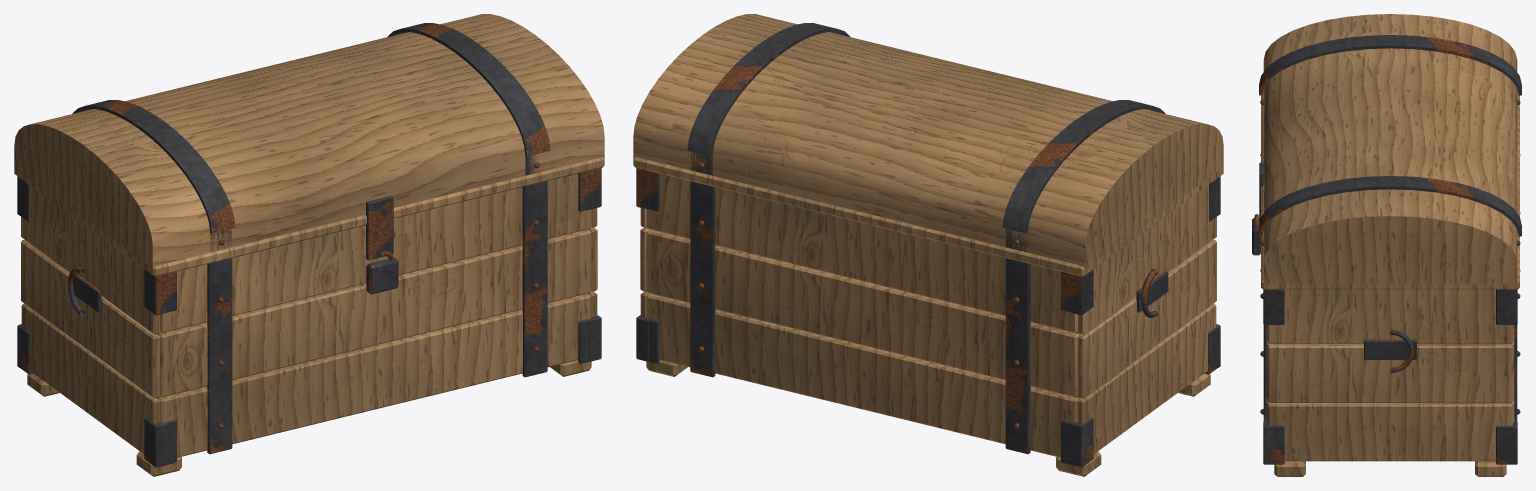
Rendered from bed_toy_chest.obj.
The picture shows the model from 3 angles, left to right: view 1: azimuth 30°, elevation 25°; view 2: azimuth 150°, elevation 25°; view 3: azimuth 270°, elevation 25°; orthographic projection. The views are drawn at different scales.
Visible parts, largest first — view 1: bed_toy_chest_wood_light, bed_toy_chest_iron; view 2: bed_toy_chest_wood_light, bed_toy_chest_iron; view 3: bed_toy_chest_wood_light, bed_toy_chest_iron.
Part boxes in pixels (<box>): bed_toy_chest_wood_light: <box>14,14,604,476</box>; bed_toy_chest_iron: <box>17,23,601,467</box>; bed_toy_chest_wood_light: <box>633,14,1223,476</box>; bed_toy_chest_iron: <box>636,23,1220,467</box>; bed_toy_chest_wood_light: <box>1261,14,1519,476</box>; bed_toy_chest_iron: <box>1252,35,1521,464</box>.
Bounding box in the file's own units: 0.9 × 0.55 × 0.5.
2 materials, 2 textured.
